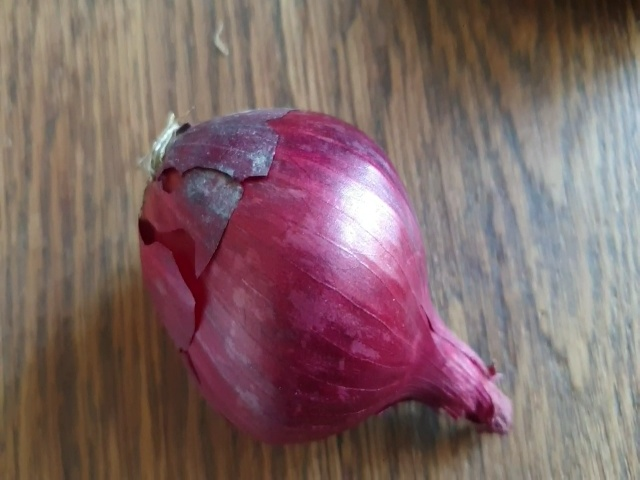red_onion: (134, 104, 525, 456)
